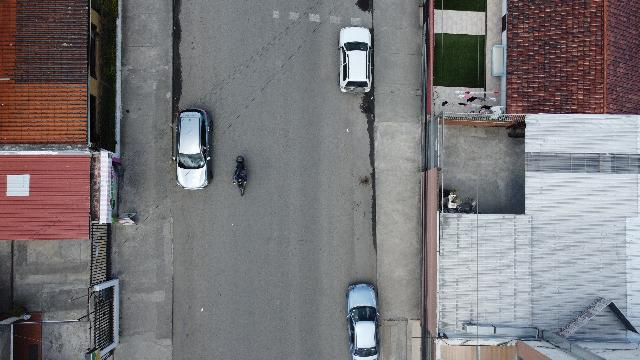Vehiculo: (175, 108, 212, 190), (346, 283, 380, 359), (339, 26, 373, 93)
